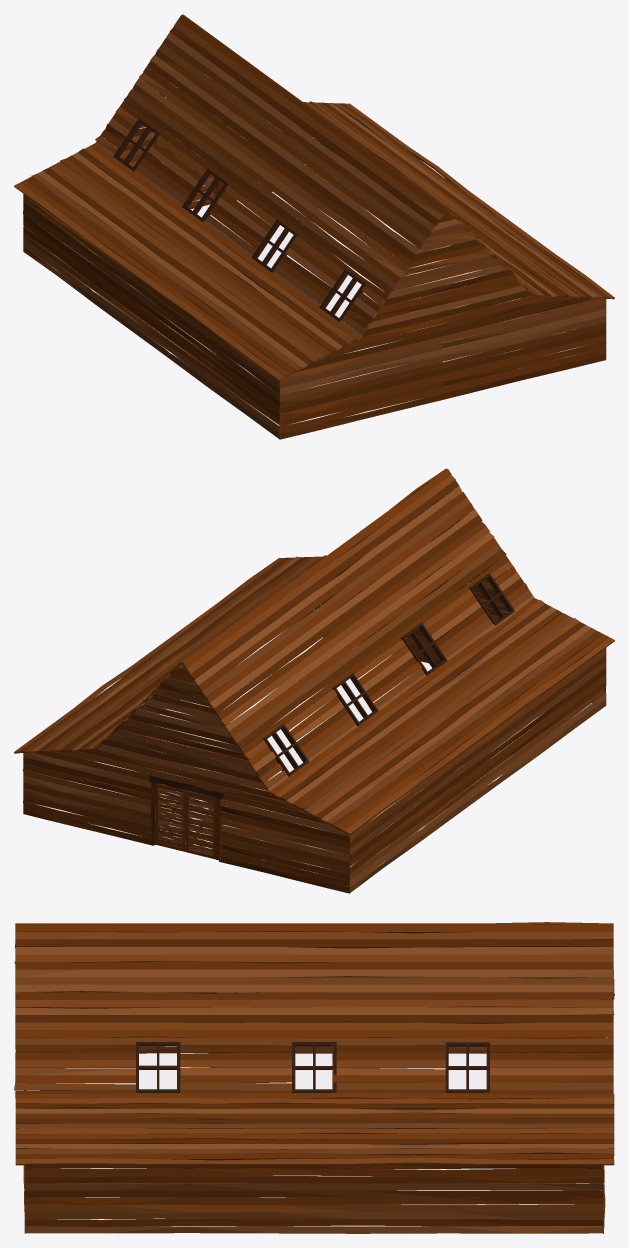
File: granary.fbx
The picture shows the model from 3 angles, top to bottom: view 1: azimuth 30°, elevation 25°; view 2: azimuth 150°, elevation 25°; view 3: azimuth 270°, elevation 25°; orthographic projection. The views are drawn at different scales.
Visible parts, largest first — view 1: tetti, parete_frontale_ingresso, pareti_laterali, telai_lucernari; view 2: tetti, parete_frontale_ingresso, pareti_laterali, telai_lucernari, anta_dx_1, anta_sx_1, travi_portone; view 3: tetti, pareti_laterali, telai_lucernari.
Part boxes in pixels (x1=…): tetti: x1=14, y1=14, x2=614, y2=380; parete_frontale_ingresso: x1=24, y1=70, x2=605, y2=439; pareti_laterali: x1=23, y1=159, x2=606, y2=439; telai_lucernari: x1=113, y1=118, x2=464, y2=321; tetti: x1=14, y1=468, x2=614, y2=835; parete_frontale_ingresso: x1=23, y1=490, x2=605, y2=893; pareti_laterali: x1=22, y1=648, x2=606, y2=892; telai_lucernari: x1=155, y1=573, x2=514, y2=776; anta_dx_1: x1=186, y1=790, x2=215, y2=859; anta_sx_1: x1=156, y1=783, x2=186, y2=851; travi_portone: x1=149, y1=775, x2=223, y2=860; tetti: x1=14, y1=922, x2=614, y2=1165; pareti_laterali: x1=25, y1=1007, x2=603, y2=1233; telai_lucernari: x1=60, y1=977, x2=569, y2=1092.
Size of the model in its own units: 1821 by 1010 by 2490.
